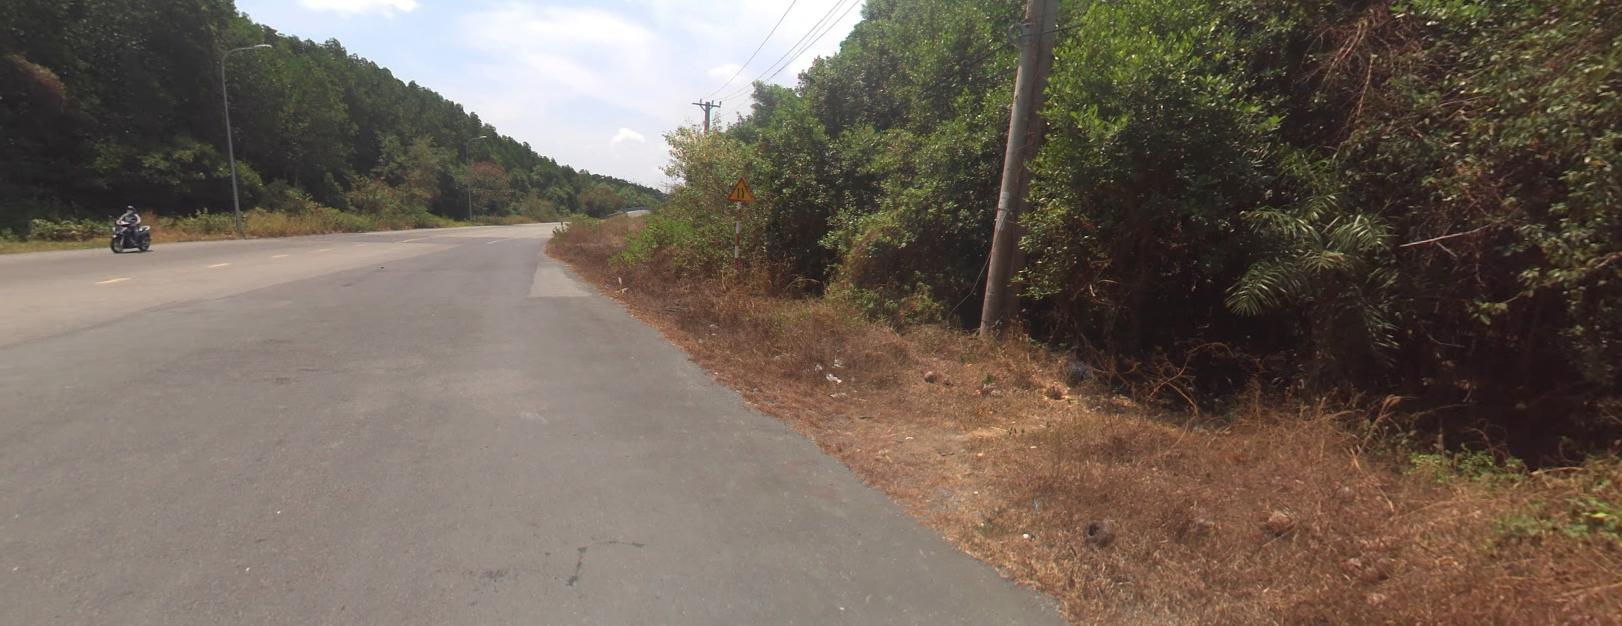Nguy hiem: (727, 175, 754, 200)
